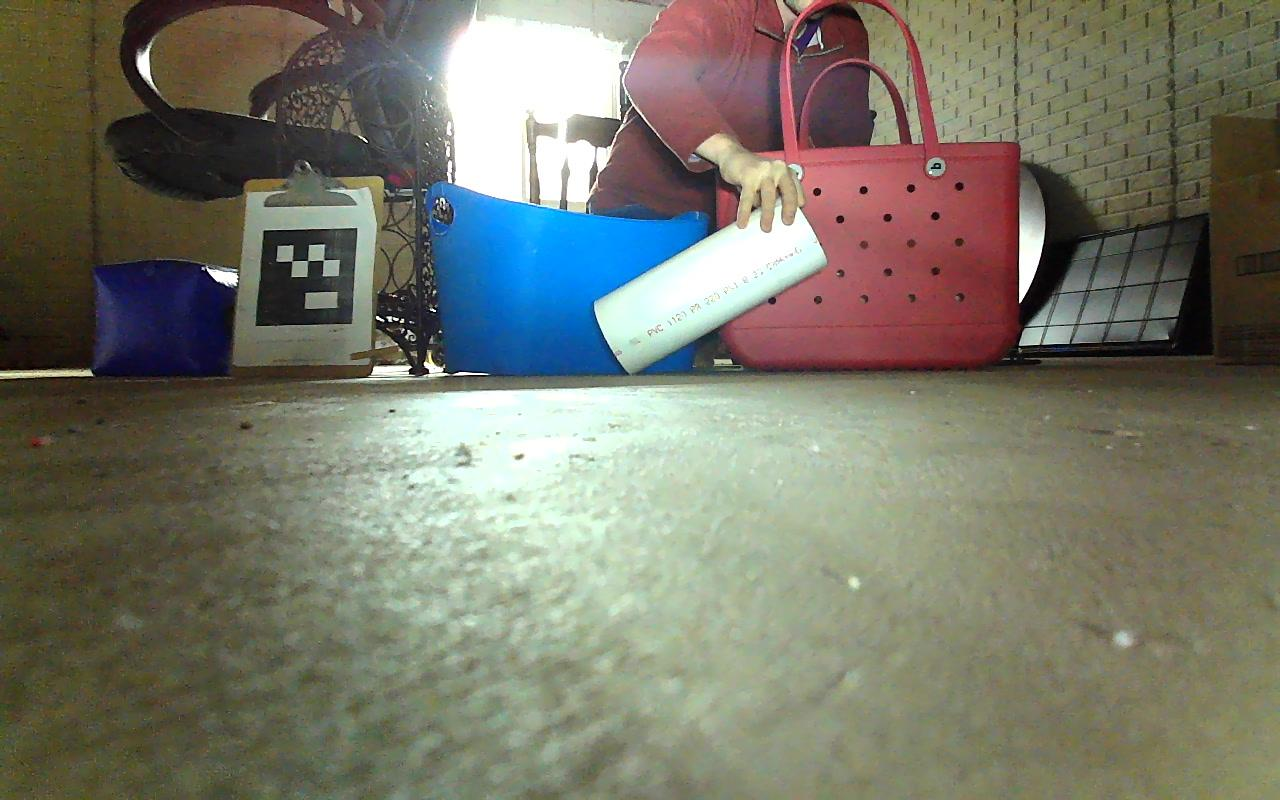coral: (592, 202, 830, 375)
